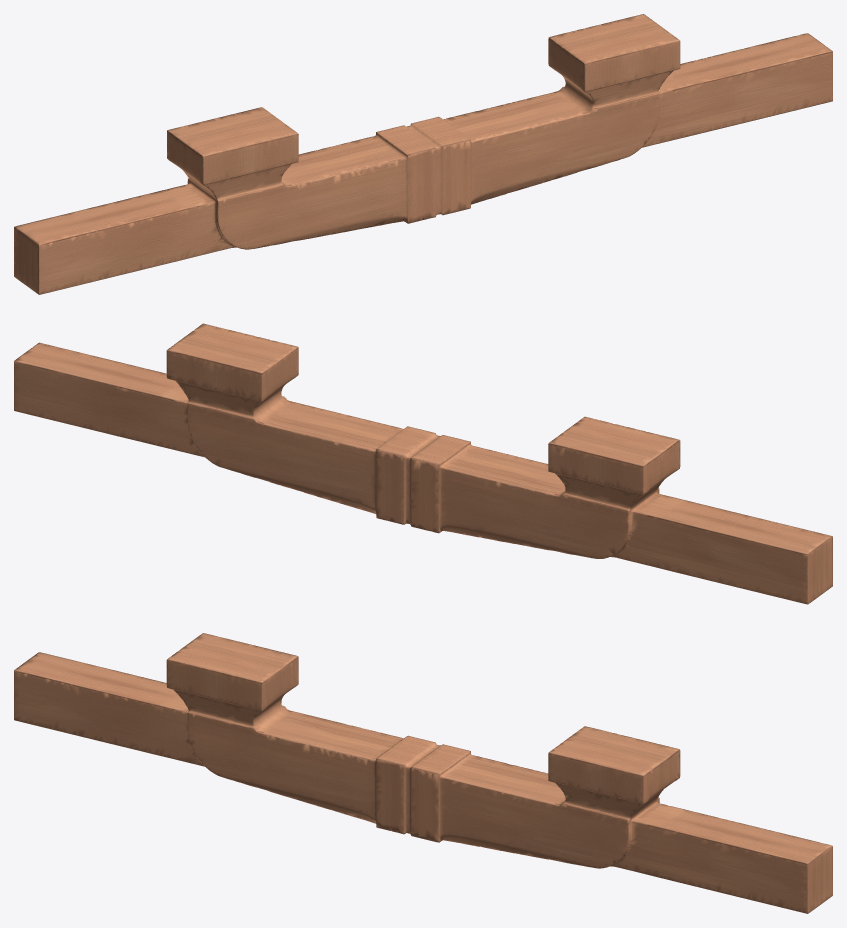
The model's file is 5二道柱头枋（隐刻短栱）、散斗.glb.
3 views of the same model, one above another, from view 1: azimuth 30°, elevation 25°; view 2: azimuth 150°, elevation 25°; view 3: azimuth 330°, elevation 25° (orthographic).
Size of the model in its own units: 1.9 by 0.2732 by 0.1515.
Materials: 1 (1 with a texture image).
